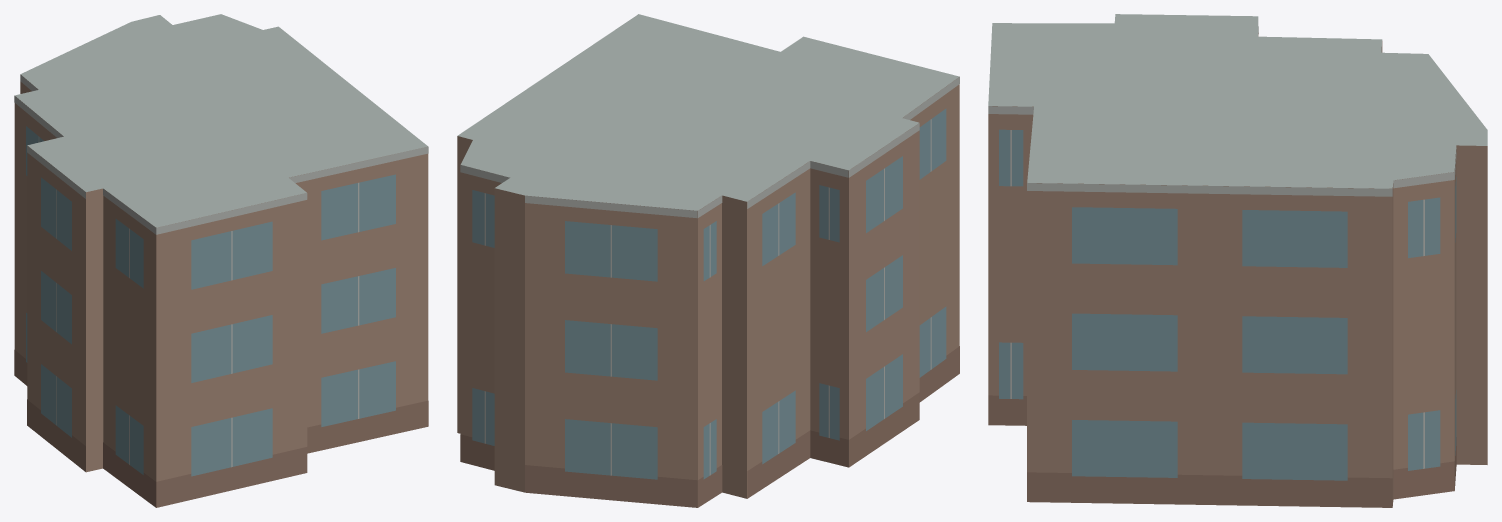
The model's file is survey-upis-32920308.glb.
3 views of the same model, side by side, from view 1: azimuth 30°, elevation 25°; view 2: azimuth 150°, elevation 25°; view 3: azimuth 270°, elevation 25° (orthographic). The views are drawn at different scales.
Visible parts, largest first — view 1: survey-upis-32920308.tmp; view 2: survey-upis-32920308.tmp; view 3: survey-upis-32920308.tmp.
Boxes of the visible parts, x1=… form: survey-upis-32920308.tmp: x1=14, y1=14, x2=428, y2=507; survey-upis-32920308.tmp: x1=457, y1=14, x2=959, y2=507; survey-upis-32920308.tmp: x1=988, y1=14, x2=1487, y2=507.
Bounding box in the file's own units: 11.4 × 9.7 × 13.77.
